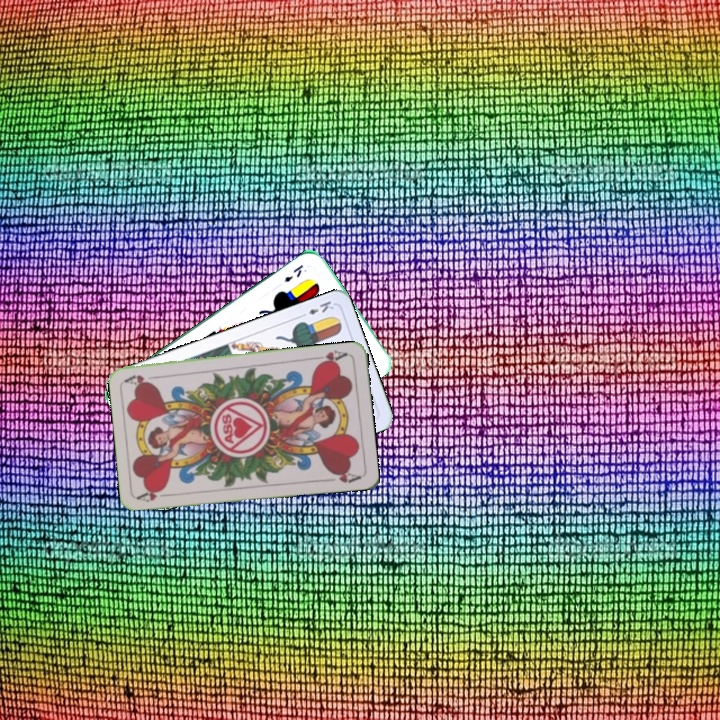EK: (296, 296, 336, 320), (280, 261, 306, 285)
HA: (310, 346, 351, 368), (134, 484, 175, 504)
